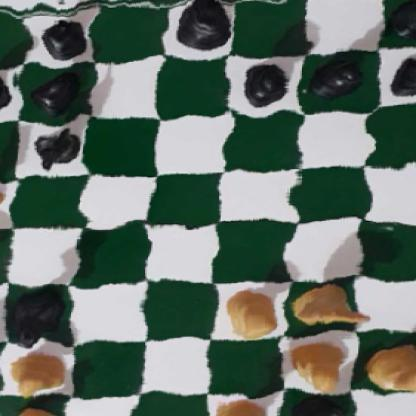black-bishop: (28, 13, 96, 58), (281, 392, 351, 416)
black-king: (169, 0, 233, 51)
black-knight: (30, 118, 85, 174)
black-pawn: (308, 52, 367, 98), (237, 58, 292, 104), (33, 66, 85, 113), (389, 54, 416, 100), (0, 70, 12, 115)
black-queen: (5, 284, 70, 355)
black-rook: (391, 0, 416, 38)
white-bishop: (1, 401, 64, 416), (0, 177, 2, 222)
white-king: (201, 393, 280, 416)
white-knight: (292, 281, 375, 329)
white-pawn: (281, 337, 348, 392), (218, 290, 280, 339), (362, 339, 416, 391), (9, 348, 63, 394)
